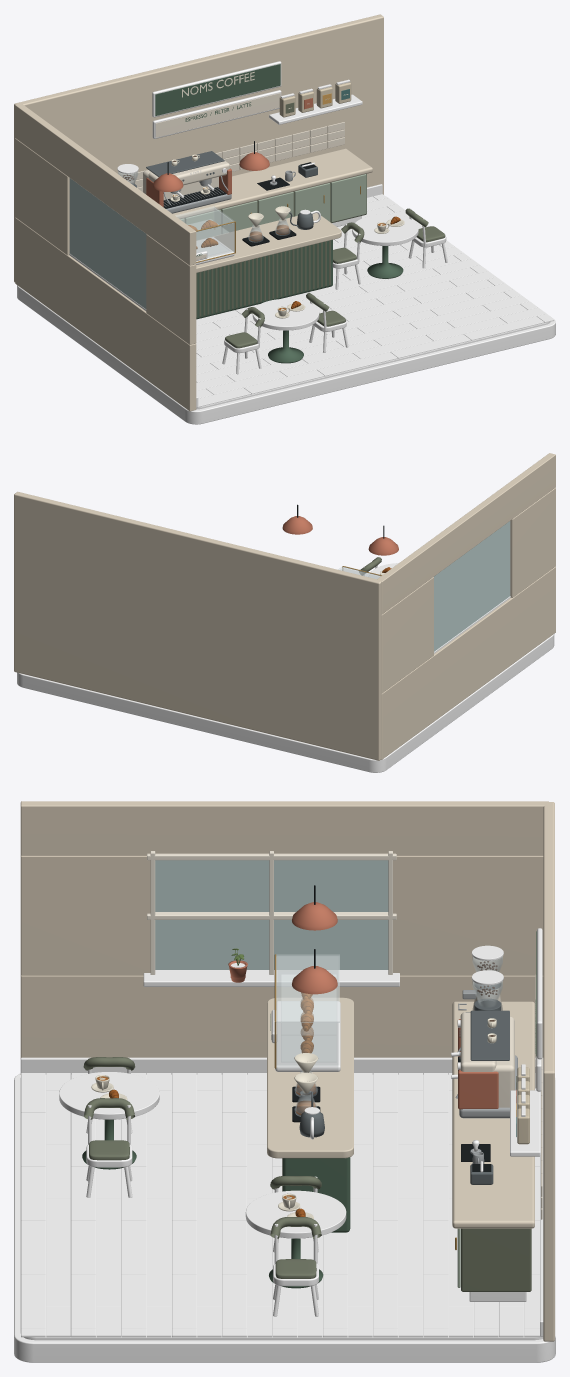
Rendered from specialty-coffee-shop.glb.
The picture shows the model from 3 angles, top to bottom: view 1: azimuth 30°, elevation 25°; view 2: azimuth 150°, elevation 25°; view 3: azimuth 270°, elevation 25°; orthographic projection. The views are drawn at different scales.
Parts seen in each view (by area): view 1: Continuous rear wall export, Window wall lower export, Rounded walnut diorama plinth export, Window wall upper export, Window softly blue glazing export, Window wall far export, Front counter body export, Window wall near export, Ivory stone worktop export, Rounded stone serving ledge export, Cafe main sign painted face export, Coffee menu painted face export (+44 smaller); view 2: Continuous rear wall export, Window wall lower export, Rounded walnut diorama plinth export, Window wall upper export, Window softly blue glazing export, Window wall far export, Window wall near export, Terracotta pendant spun shade export, Terracotta pendant spun shade.001 export; view 3: Window wall lower export, Window wall upper export, Window softly blue glazing export, Window wall far export, Window wall near export, Rounded walnut diorama plinth export, Ivory stone worktop export, Rounded stone serving ledge export, Continuous floor export, Continuous rear wall export, Left oak skirting export, Sage rear cabinet carcass export (+99 smaller).
Boxes of the visible parts, <box> form: Continuous rear wall export: <box>14,14,383,282</box>; Window wall lower export: <box>15,217,196,411</box>; Rounded walnut diorama plinth export: <box>17,196,555,424</box>; Window wall upper export: <box>15,104,196,265</box>; Window softly blue glazing export: <box>69,178,146,308</box>; Window wall far export: <box>15,138,69,255</box>; Front counter body export: <box>196,240,332,319</box>; Window wall near export: <box>146,234,196,344</box>; Ivory stone worktop export: <box>172,148,372,218</box>; Rounded stone serving ledge export: <box>196,213,341,272</box>; Cafe main sign painted face export: <box>155,64,280,115</box>; Coffee menu painted face export: <box>155,93,280,137</box>; Continuous rear wall export: <box>14,491,381,760</box>; Window wall lower export: <box>381,566,555,759</box>; Rounded walnut diorama plinth export: <box>17,634,554,772</box>; Window wall upper export: <box>376,453,555,614</box>; Window softly blue glazing export: <box>434,521,510,651</box>; Window wall far export: <box>381,577,433,693</box>; Window wall near export: <box>510,487,555,597</box>; Terracotta pendant spun shade export: <box>368,537,398,555</box>; Terracotta pendant spun shade.001 export: <box>282,516,312,534</box>; Window wall lower export: <box>20,975,543,1074</box>; Window wall upper export: <box>20,801,548,855</box>; Window softly blue glazing export: <box>155,860,388,969</box>; Window wall far export: <box>393,855,543,975</box>; Window wall near export: <box>20,855,150,975</box>; Rounded walnut diorama plinth export: <box>14,1073,555,1362</box>; Ivory stone worktop export: <box>452,1001,534,1228</box>; Rounded stone serving ledge export: <box>267,997,353,1158</box>; Continuous floor export: <box>20,1074,543,1340</box>; Continuous rear wall export: <box>543,802,554,1341</box>; Left oak skirting export: <box>20,1057,543,1074</box>; Sage rear cabinet carcass export: <box>461,1228,531,1291</box>.
Size of the model in its own units: 7.56 by 3.76 by 6.36.
32 materials, 1 textured.
